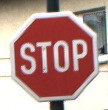stopsign: (11, 10, 97, 102)
